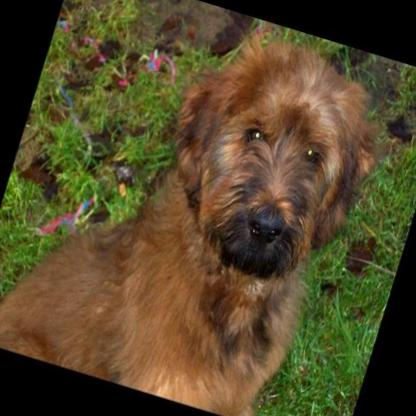briard: (0, 0, 399, 416)
